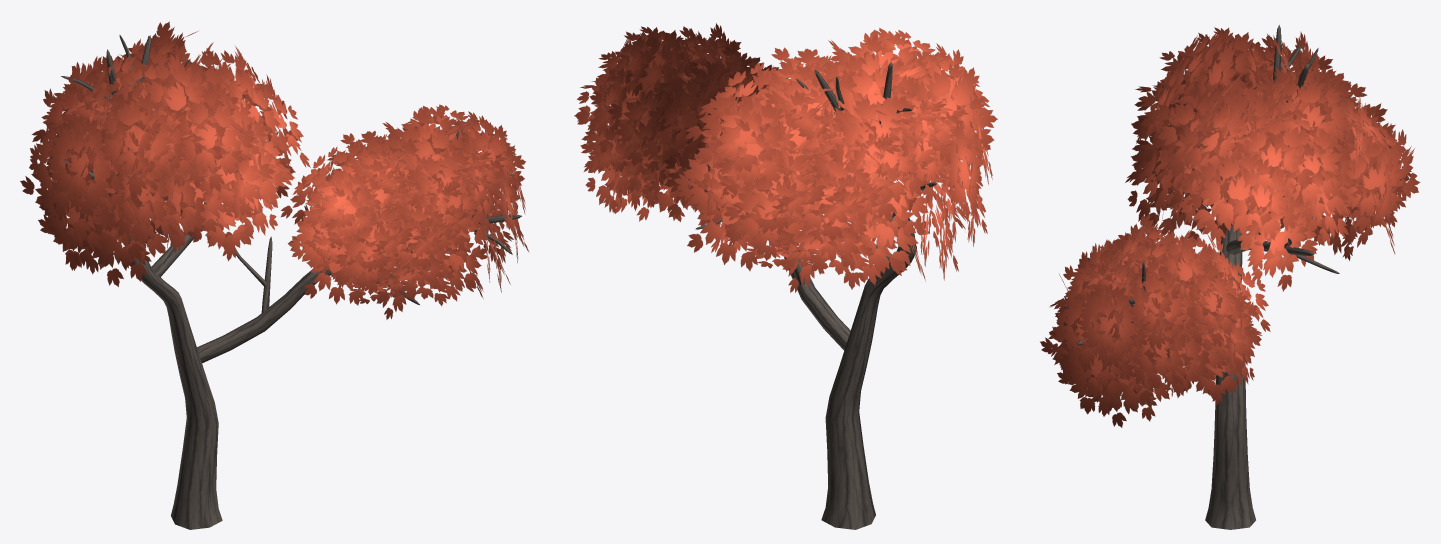
Rendered from maple_1.glb.
3 views of the same model, side by side, from view 1: azimuth 30°, elevation 25°; view 2: azimuth 150°, elevation 25°; view 3: azimuth 270°, elevation 25° (orthographic). The views are drawn at different scales.
Parts seen in each view (by area): view 1: MapleTree_1; view 2: MapleTree_1; view 3: MapleTree_1.
Part boxes in pixels (box(x1,y1,x2,y2)): MapleTree_1: box(20, 21, 528, 529); MapleTree_1: box(574, 23, 997, 529); MapleTree_1: box(1040, 25, 1420, 529).
Bounding box in the file's own units: 6.23 × 6.64 × 4.9.
2 materials, 2 textured.
